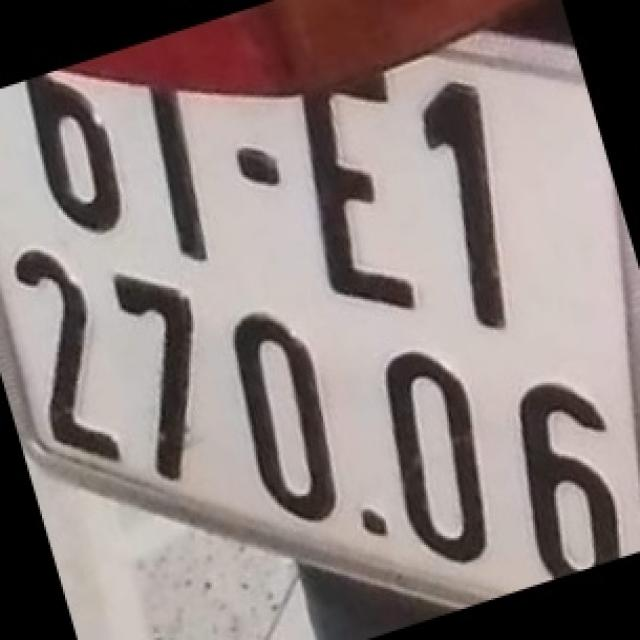0: (378, 341, 499, 569), (229, 306, 350, 529)
1: (418, 76, 526, 334)
2: (12, 240, 122, 464)
6: (514, 374, 623, 576)
7: (112, 267, 202, 490)
L: (298, 66, 426, 316)
